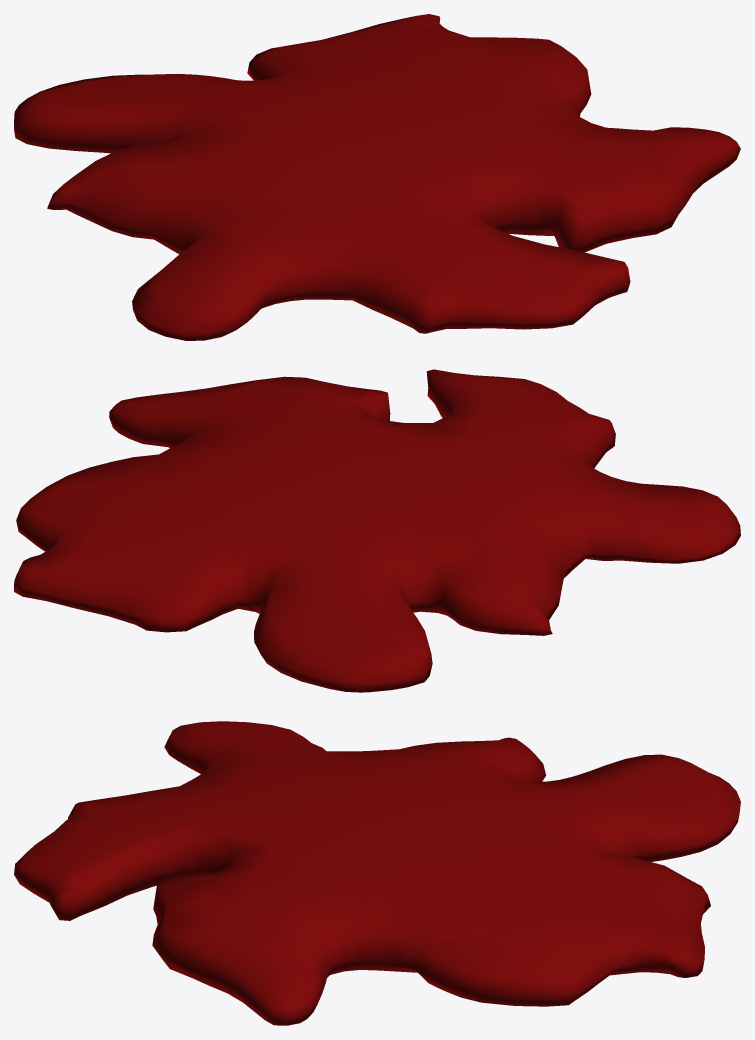
Rendered from m_sauce_3.FBX.
The picture shows the model from 3 angles, top to bottom: view 1: azimuth 30°, elevation 25°; view 2: azimuth 150°, elevation 25°; view 3: azimuth 270°, elevation 25°; orthographic projection. The views are drawn at different scales.
Parts seen in each view (by area): view 1: m_sauce_3; view 2: m_sauce_3; view 3: m_sauce_3.
Part boxes in pixels (bbox=[...]): m_sauce_3: bbox=[14, 14, 740, 340]; m_sauce_3: bbox=[14, 369, 740, 692]; m_sauce_3: bbox=[14, 721, 740, 1025].
Bounding box in the file's own units: 172 × 15.76 × 176.
